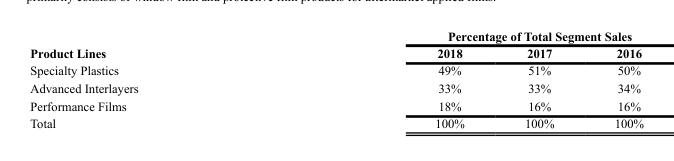table: (29, 28, 643, 130)
table column: (29, 28, 285, 130), (285, 28, 493, 130), (493, 28, 583, 130), (583, 28, 643, 130)
table column header: (29, 28, 643, 61)
table row: (29, 78, 643, 96), (29, 96, 643, 114), (29, 44, 643, 61), (29, 61, 643, 78), (29, 28, 643, 44), (29, 114, 643, 130)
table spanning cell: (29, 28, 285, 61), (285, 28, 643, 44)
